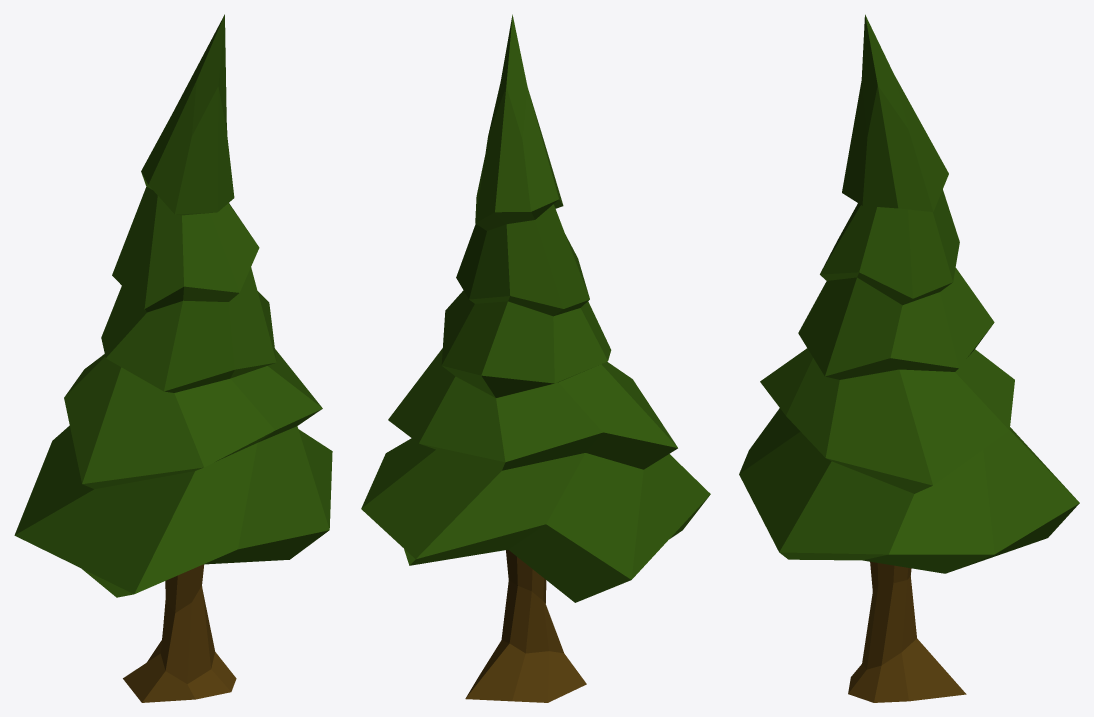
File: Pine4.fbx
3 views of the same model, side by side, from view 1: azimuth 30°, elevation 25°; view 2: azimuth 150°, elevation 25°; view 3: azimuth 270°, elevation 25° (orthographic). The views are drawn at different scales.
Parts seen in each view (by area): view 1: Cylinder.003; view 2: Cylinder.003; view 3: Cylinder.003.
Boxes of the visible parts, x1,y1,x2,y2 form: Cylinder.003: (14,14,332,702); Cylinder.003: (361,14,710,702); Cylinder.003: (739,14,1079,702).
Bounding box in the file's own units: 163 × 365 × 166.
